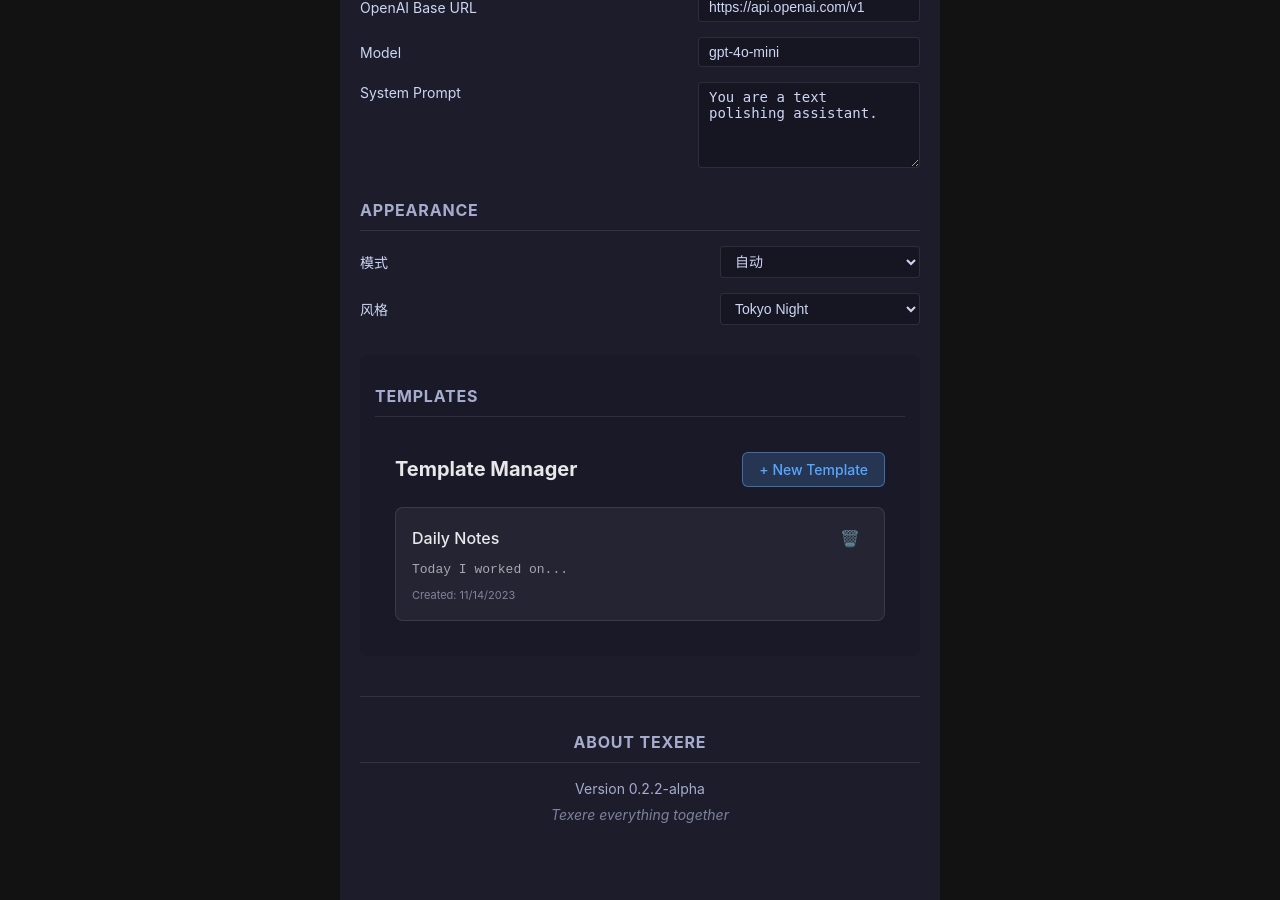
SettingsPanel › deletes a template item through settings panel flow
(page scrolled)
Expected: the heading "Templates" is shown, [375,384,905,417]
Expected: the button "Daily Notes" is shown, [412,528,499,548]
Click the button named "Delete": (850, 538) [832,524,868,552]
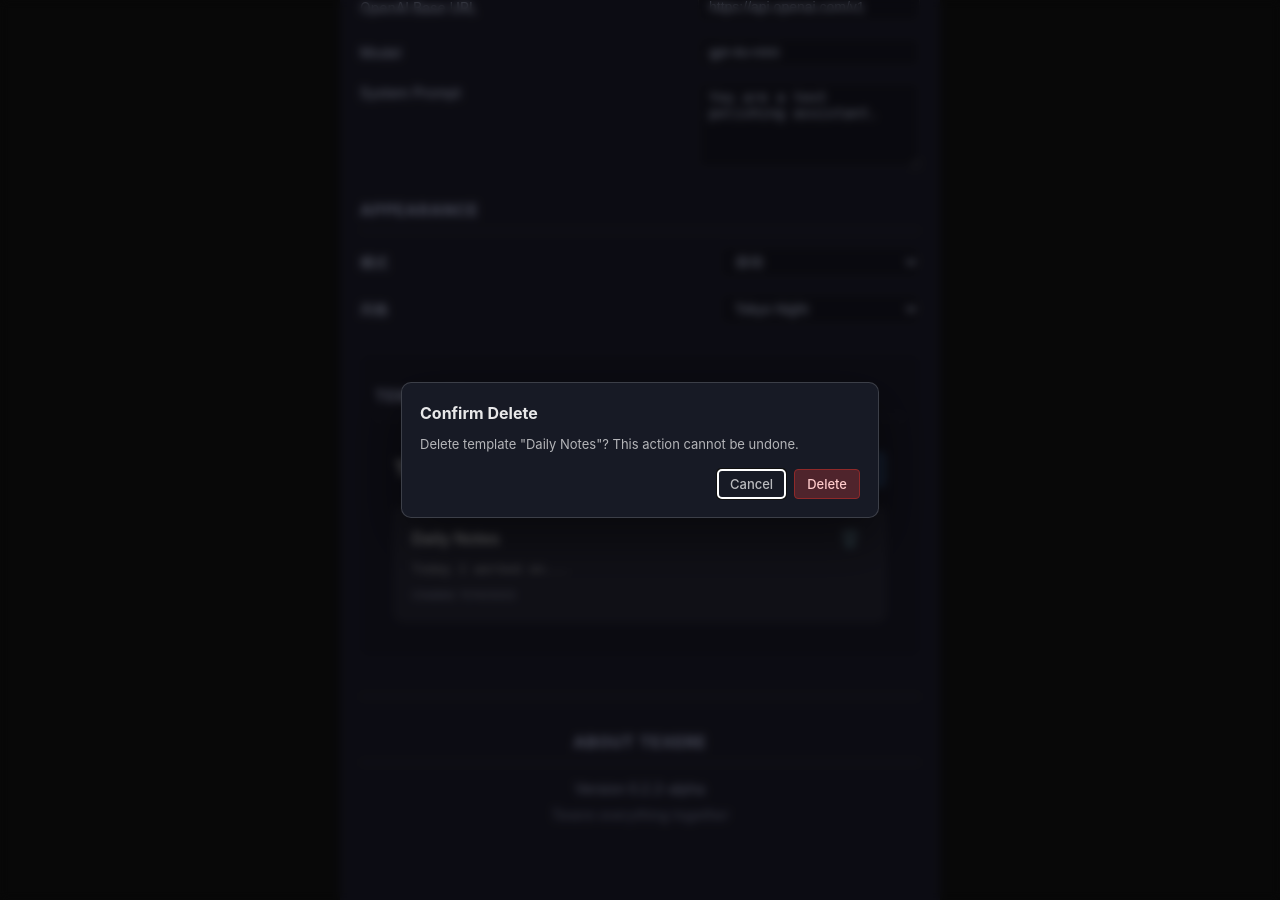
Now the button with class "btn-danger" is shown
Click the button with class "btn-danger": (827, 484) [794,469,860,499]
(page scrolled)
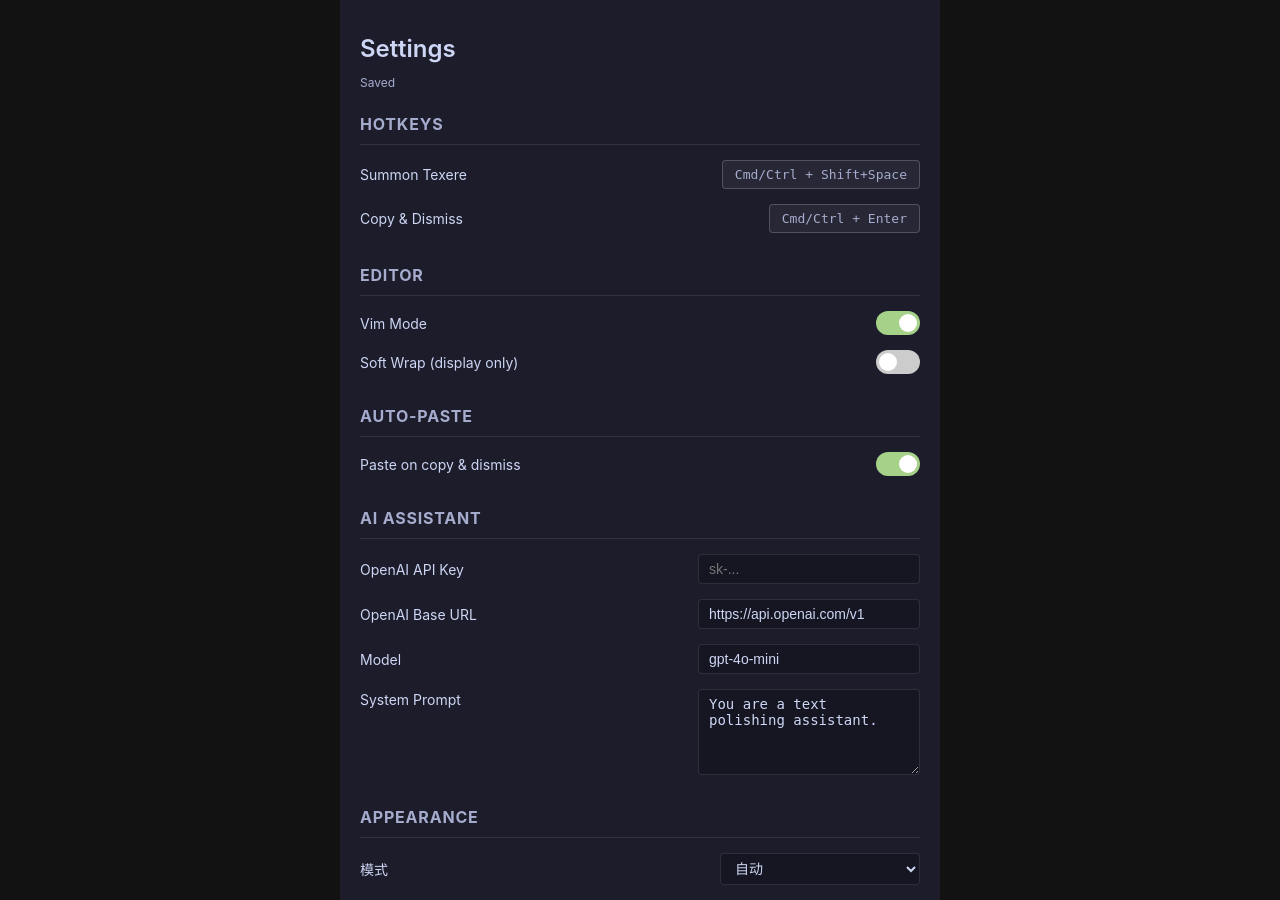
Now the text "Saved" is shown, box [360,76,395,90]
Now the button "Daily Notes" is gone
